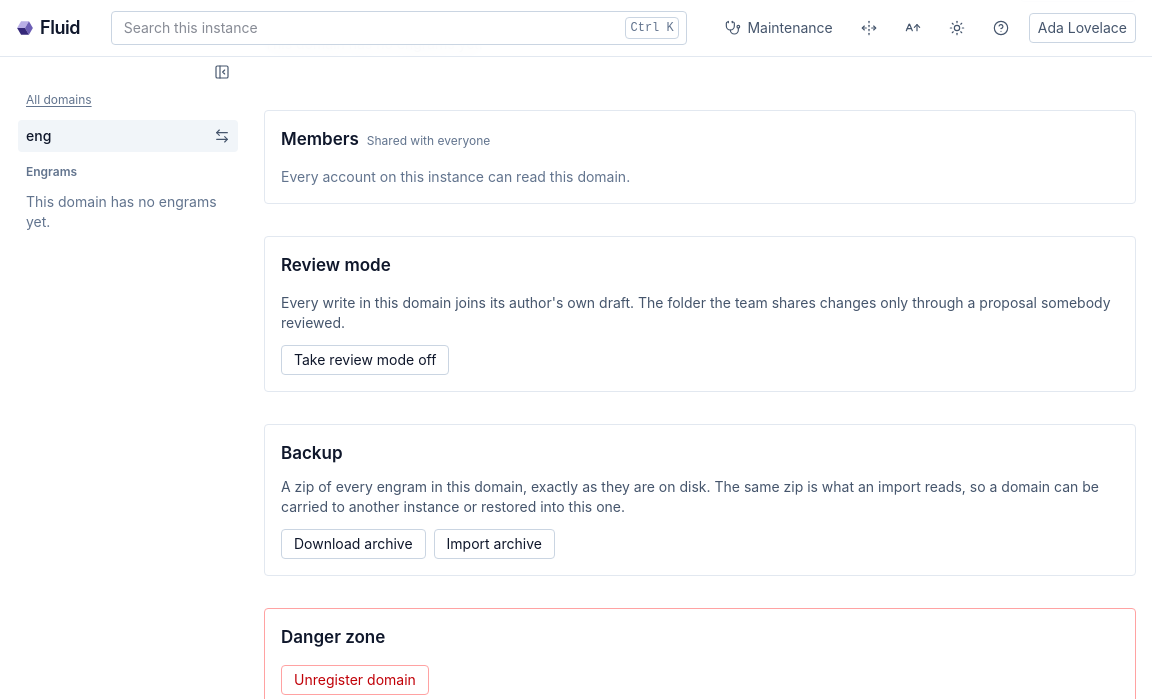
it: ReviewModeCard › shows the server's refusal in the server's own words
The width and height of the screenshot is (1152, 699).
(page scrolled)
Click the button "Take review mode off" at (365, 360), box [281, 345, 449, 375]
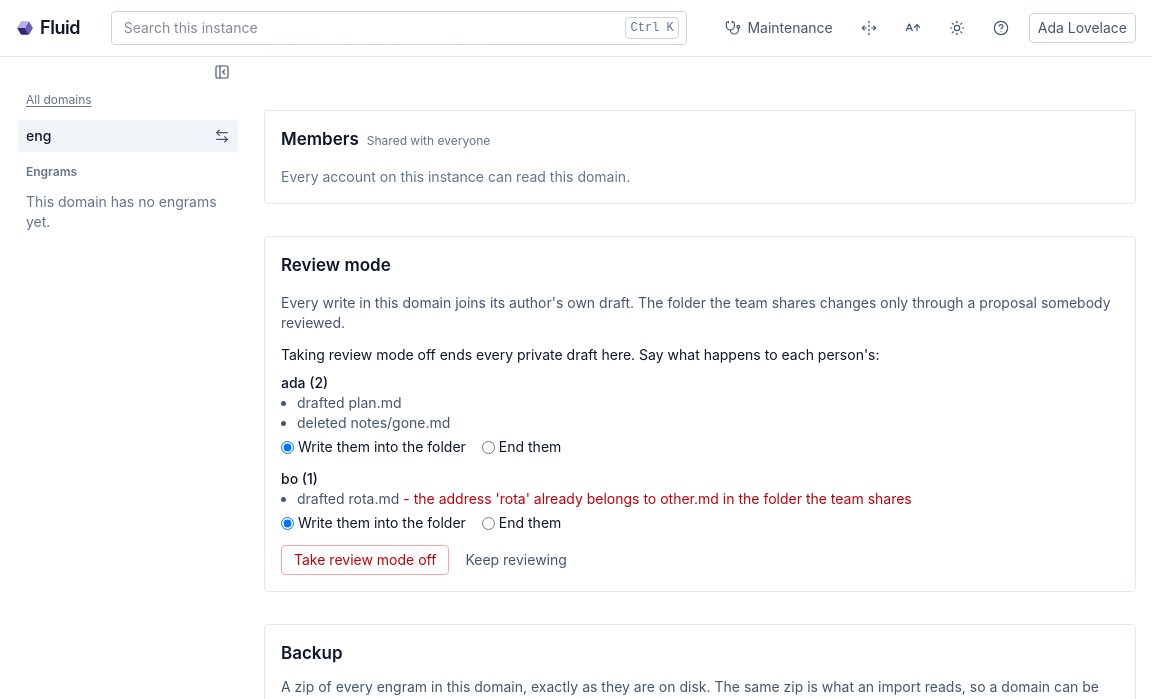
Check: the text "ada (2)" is shown, box [281, 373, 328, 393]
Click the button "Take review mode off" at (365, 560), box [281, 545, 449, 575]
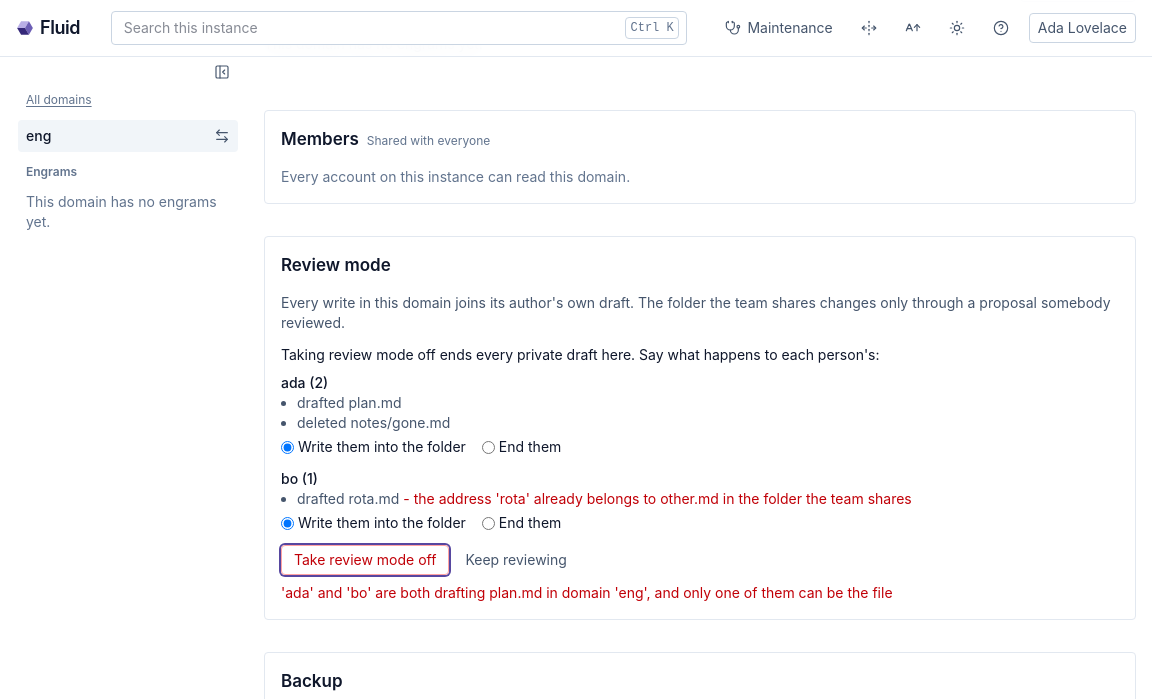
Check: the message shows "only one of them can be the file", box [281, 584, 893, 601]
